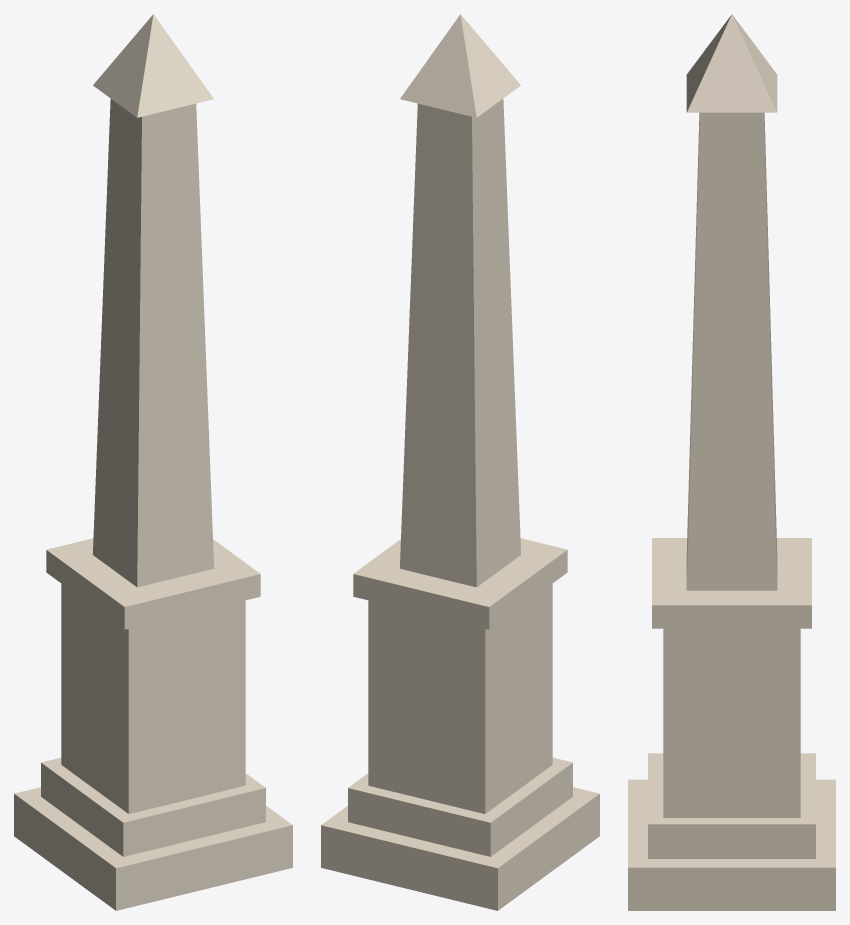
The model's file is obelisk_w3.glb.
3 renders of one model, left to right at view 1: azimuth 30°, elevation 25°; view 2: azimuth 150°, elevation 25°; view 3: azimuth 270°, elevation 25°, orthographic.
Parts seen in each view (by area): view 1: Obelisk; view 2: Obelisk; view 3: Obelisk.
Part boxes in pixels (<box>): Obelisk: <box>14,14,292,910</box>; Obelisk: <box>321,14,599,910</box>; Obelisk: <box>628,14,835,910</box>.
Bounding box in the file's own units: 1.3 × 5.89 × 1.3.
